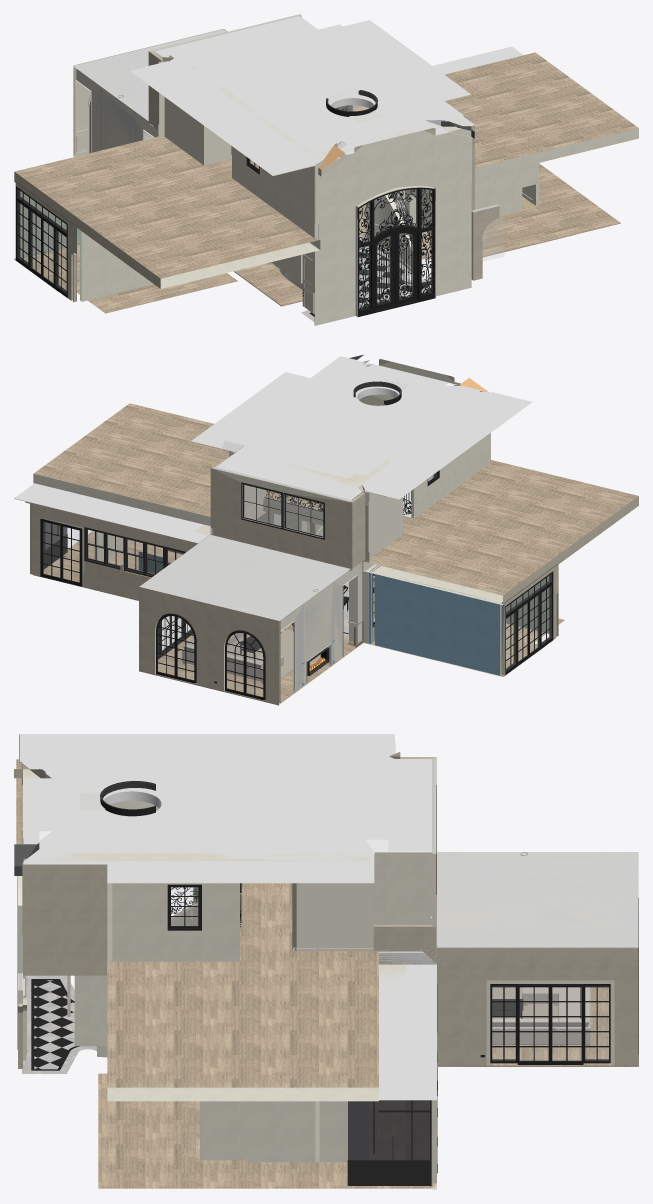
The model's file is family-room-db1aa8ea0f98.glb.
3 renders of one model, top to bottom at view 1: azimuth 30°, elevation 25°; view 2: azimuth 150°, elevation 25°; view 3: azimuth 270°, elevation 25°, orthographic. The views are drawn at different scales.
Visible parts, largest first — view 1: family-room-look-2575515a05775d9e, family-room-look-e8793759323e04f0, family-room-look-9d91b47435c6fb33, family-room-look-34525a54e63b733b, family-room-look-3b0077416469e01b, family-room-look-d5a4a1b5d3594c04, family-room-look-5f56640b372ec5ce, family-room-look-746250f96522f643, family-room-4a969f5cc1ae3dfe, family-room-look-bce662e26d5a5947, family-room-look-d999b7e09afcf2f4, family-room-9d80b152e3f2ea10 (+30 smaller); view 2: family-room-look-2575515a05775d9e, family-room-look-e8793759323e04f0, family-room-look-9d91b47435c6fb33, family-room-4a969f5cc1ae3dfe, family-room-look-b19b106fc304963c, family-room-look-245f595ae2832e16, family-room-969b861f9850351e, family-room-look-bfb9fa537cd11d1d, family-room-look-9a0e9ee9b2a451d7, family-room-9d80b152e3f2ea10, family-room-look-5f56640b372ec5ce, family-room-55ff1dfd7b659ec1 (+26 smaller); view 3: family-room-look-2575515a05775d9e, family-room-look-e8793759323e04f0, family-room-look-9d91b47435c6fb33, family-room-4a969f5cc1ae3dfe, family-room-look-3b0077416469e01b, family-room-e706aa16b4547c37, family-room-look-62353aa10fc57f23, family-room-50d54560d247b537, family-room-look-c51ecd664a3b22a3, family-room-look-9a0e9ee9b2a451d7, family-room-look-5f56640b372ec5ce, family-room-look-69af8f587252f9fa (+28 smaller).
Boxes of the visible parts, x1,y1,x2,y2 form: family-room-look-2575515a05775d9e: [14, 52, 638, 288]; family-room-look-e8793759323e04f0: [180, 23, 463, 157]; family-room-look-9d91b47435c6fb33: [130, 16, 474, 175]; family-room-look-34525a54e63b733b: [314, 126, 471, 244]; family-room-look-3b0077416469e01b: [14, 163, 620, 306]; family-room-look-d5a4a1b5d3594c04: [314, 208, 471, 325]; family-room-look-5f56640b372ec5ce: [254, 81, 404, 139]; family-room-look-746250f96522f643: [232, 146, 317, 238]; family-room-4a969f5cc1ae3dfe: [73, 29, 226, 120]; family-room-look-bce662e26d5a5947: [357, 187, 435, 316]; family-room-look-d999b7e09afcf2f4: [80, 230, 153, 301]; family-room-9d80b152e3f2ea10: [76, 69, 158, 152]; family-room-look-2575515a05775d9e: [33, 403, 638, 604]; family-room-look-e8793759323e04f0: [222, 356, 481, 486]; family-room-look-9d91b47435c6fb33: [191, 362, 532, 500]; family-room-4a969f5cc1ae3dfe: [139, 534, 349, 621]; family-room-look-b19b106fc304963c: [375, 573, 501, 675]; family-room-look-245f595ae2832e16: [210, 467, 352, 568]; family-room-969b861f9850351e: [139, 587, 280, 704]; family-room-look-bfb9fa537cd11d1d: [30, 502, 197, 600]; family-room-look-9a0e9ee9b2a451d7: [14, 483, 208, 543]; family-room-9d80b152e3f2ea10: [280, 562, 362, 690]; family-room-look-5f56640b372ec5ce: [324, 377, 464, 430]; family-room-55ff1dfd7b659ec1: [281, 562, 362, 692]; family-room-look-2575515a05775d9e: [16, 759, 378, 1101]; family-room-look-e8793759323e04f0: [39, 756, 388, 861]; family-room-look-9d91b47435c6fb33: [19, 734, 431, 883]; family-room-4a969f5cc1ae3dfe: [436, 852, 638, 948]; family-room-look-3b0077416469e01b: [98, 920, 436, 1188]; family-room-e706aa16b4547c37: [437, 948, 633, 1065]; family-room-look-62353aa10fc57f23: [23, 865, 112, 975]; family-room-50d54560d247b537: [436, 852, 638, 948]; family-room-look-c51ecd664a3b22a3: [112, 883, 239, 961]; family-room-look-9a0e9ee9b2a451d7: [379, 964, 436, 1100]; family-room-look-5f56640b372ec5ce: [83, 756, 196, 825]; family-room-look-69af8f587252f9fa: [292, 883, 373, 947].
Size of the model in its own units: 21.02 by 7.02 by 16.88.
Materials: 71 (13 with a texture image).
